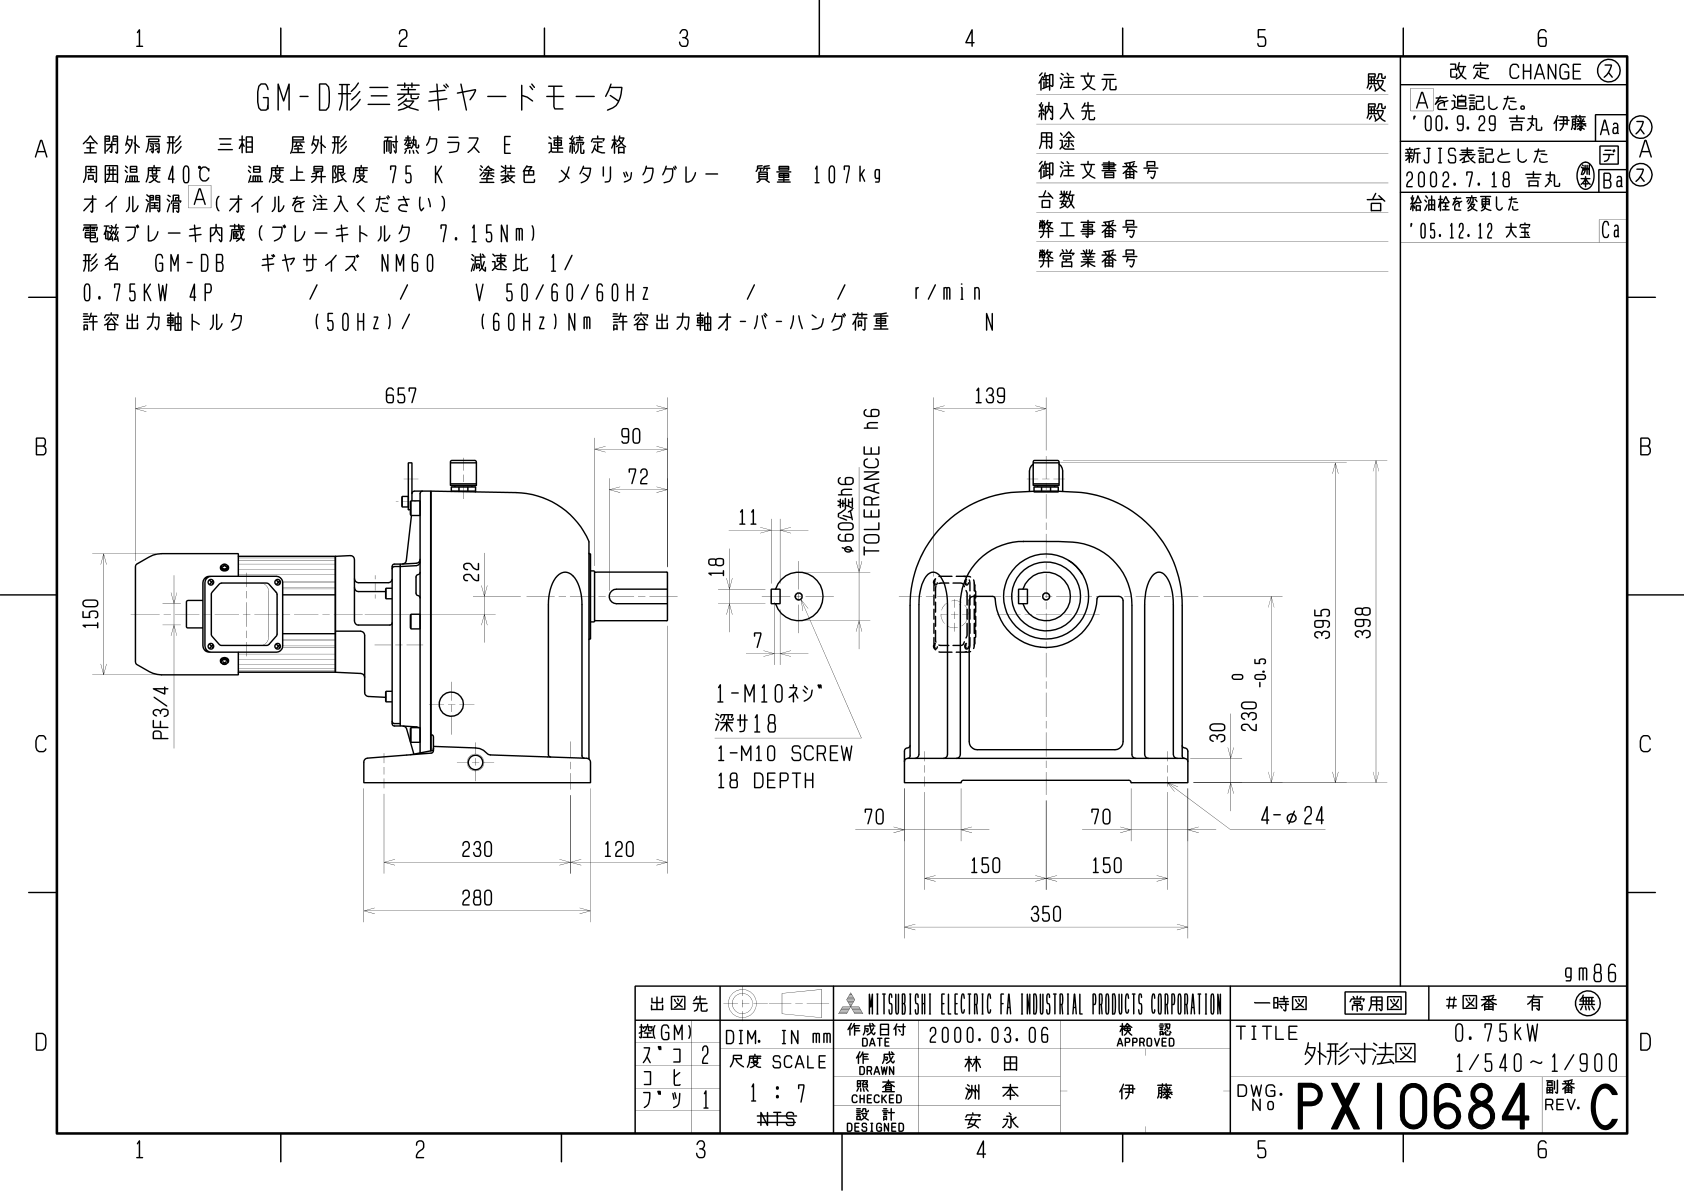GM_D_屋外＿三相_脚: (71, 365, 1403, 978)
